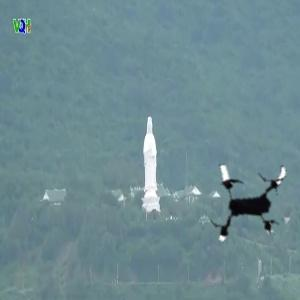drone: (197, 147, 299, 249)
